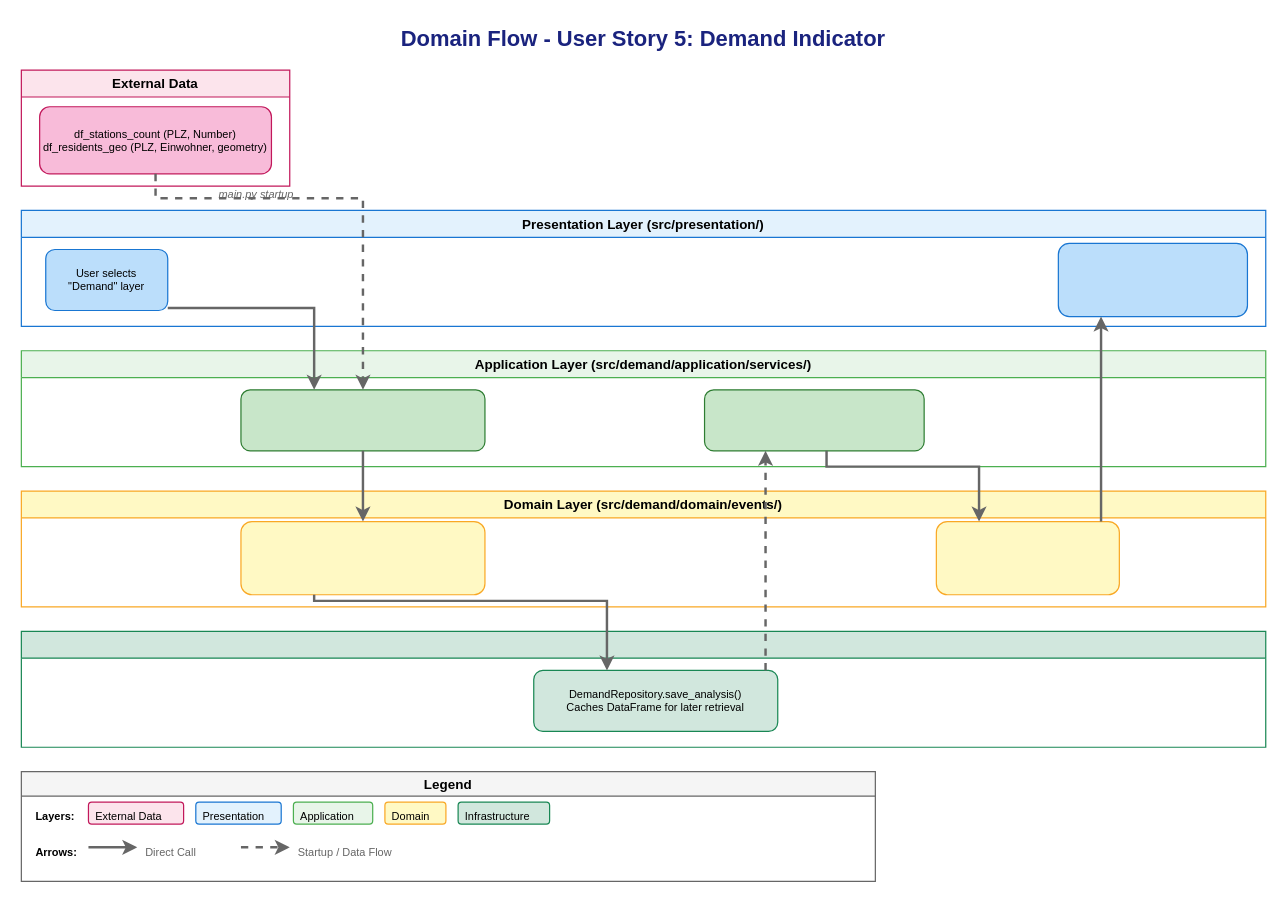
The diagram is 1287 pixels wide and 903 high, and some of its shapes have lost their labels. Each missing label, with the box of its shape:
DemandService.calculate_demand() Orchestrates demand calculation: (240, 389, 485, 451)
DemandService.get_latest_results() Returns cached DataFrame: (703, 389, 924, 451)
display_demand() Renders heatmap layer on Folium map: (935, 520, 1119, 595)
Infrastructure Layer (src/demand/infrastructure/repositories/): (20, 630, 1266, 747)
on_demand_calculated() Calculates demand per PLZ: demand = einwohner / count: (240, 520, 485, 595)
render_map_layer() → display_demand() → Folium Heatmap: (1057, 242, 1247, 317)
